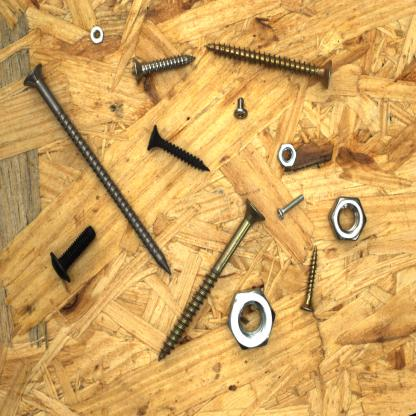screw: (20, 60, 174, 278), (155, 195, 268, 365), (203, 38, 335, 92), (142, 122, 214, 176), (47, 221, 98, 286), (132, 50, 198, 87), (298, 242, 320, 315), (276, 191, 308, 222), (231, 96, 250, 122)
